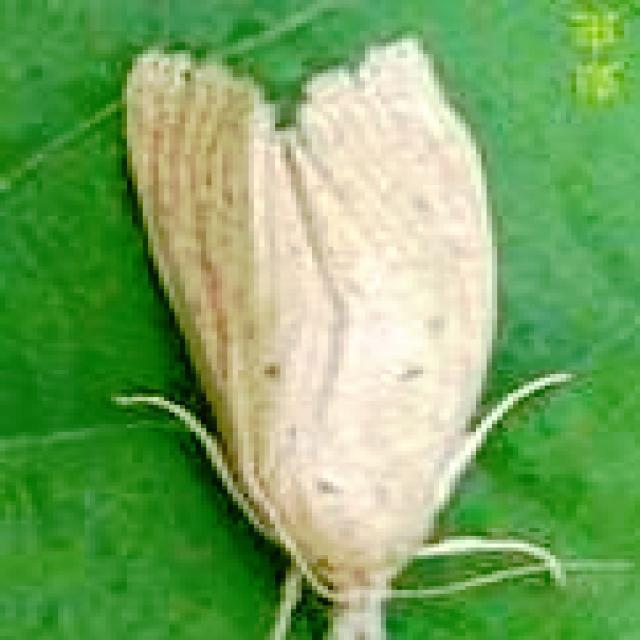stem-borer: (109, 32, 557, 640)
